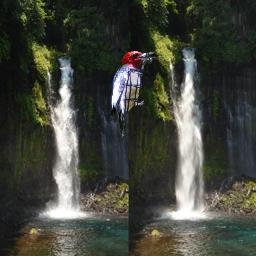Woodpecker: (110, 50, 156, 140)
